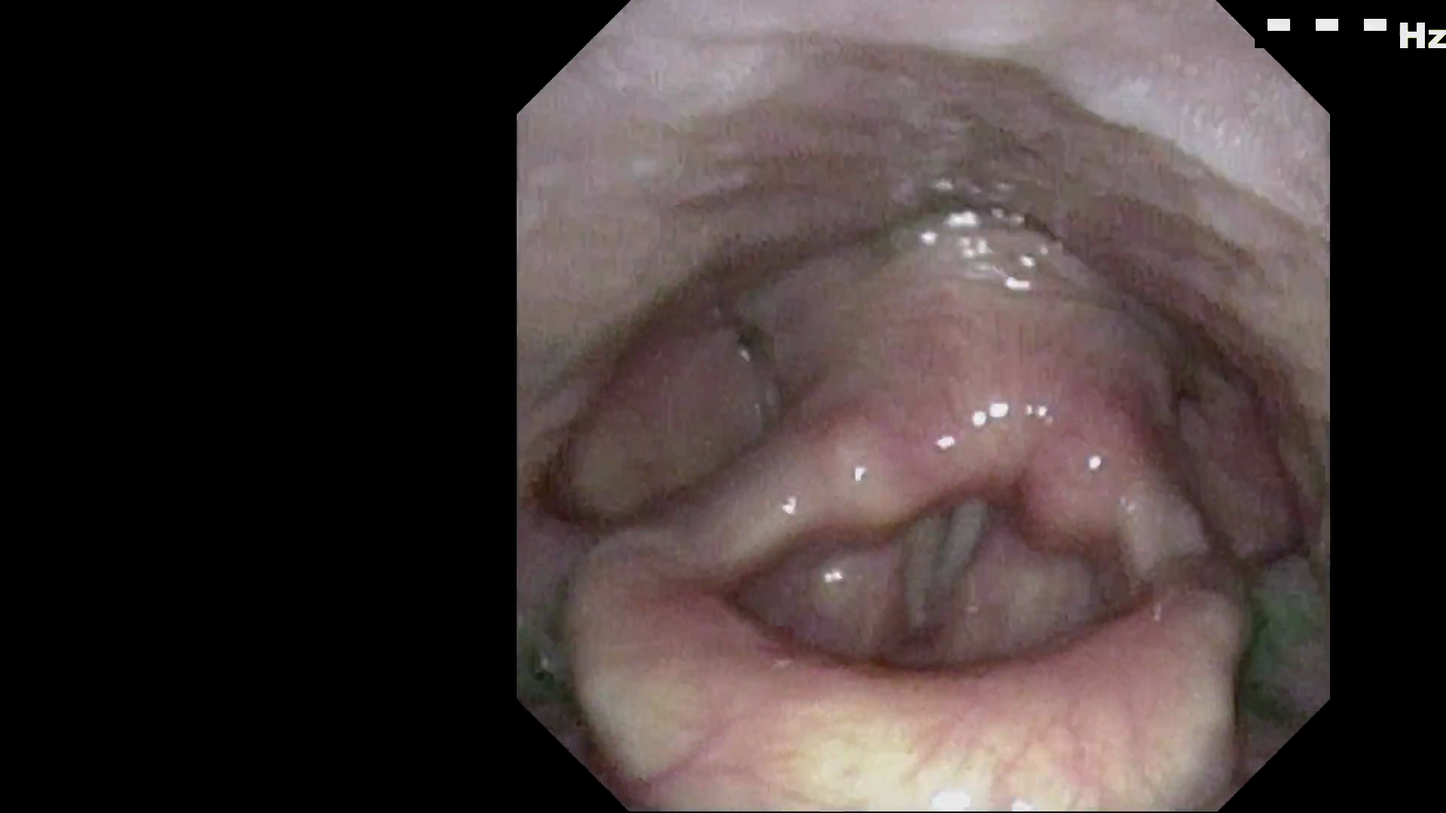epiglottis: (613, 601, 1244, 792)
trachea: (890, 480, 1030, 657)
